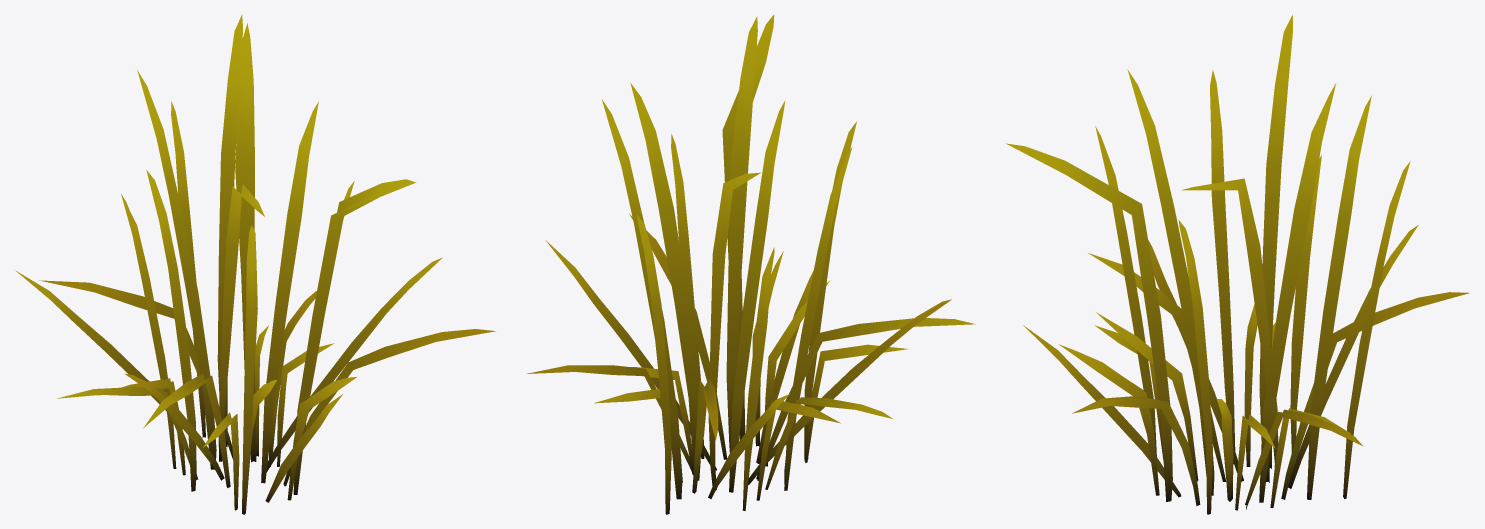
The model's file is grass_wispy_tall.glb.
3 views of the same model, side by side, from view 1: azimuth 30°, elevation 25°; view 2: azimuth 150°, elevation 25°; view 3: azimuth 270°, elevation 25° (orthographic). The views are drawn at different scales.
Bounding box in the file's own units: 1.54 × 1.67 × 1.59.
1 material, 1 textured.
